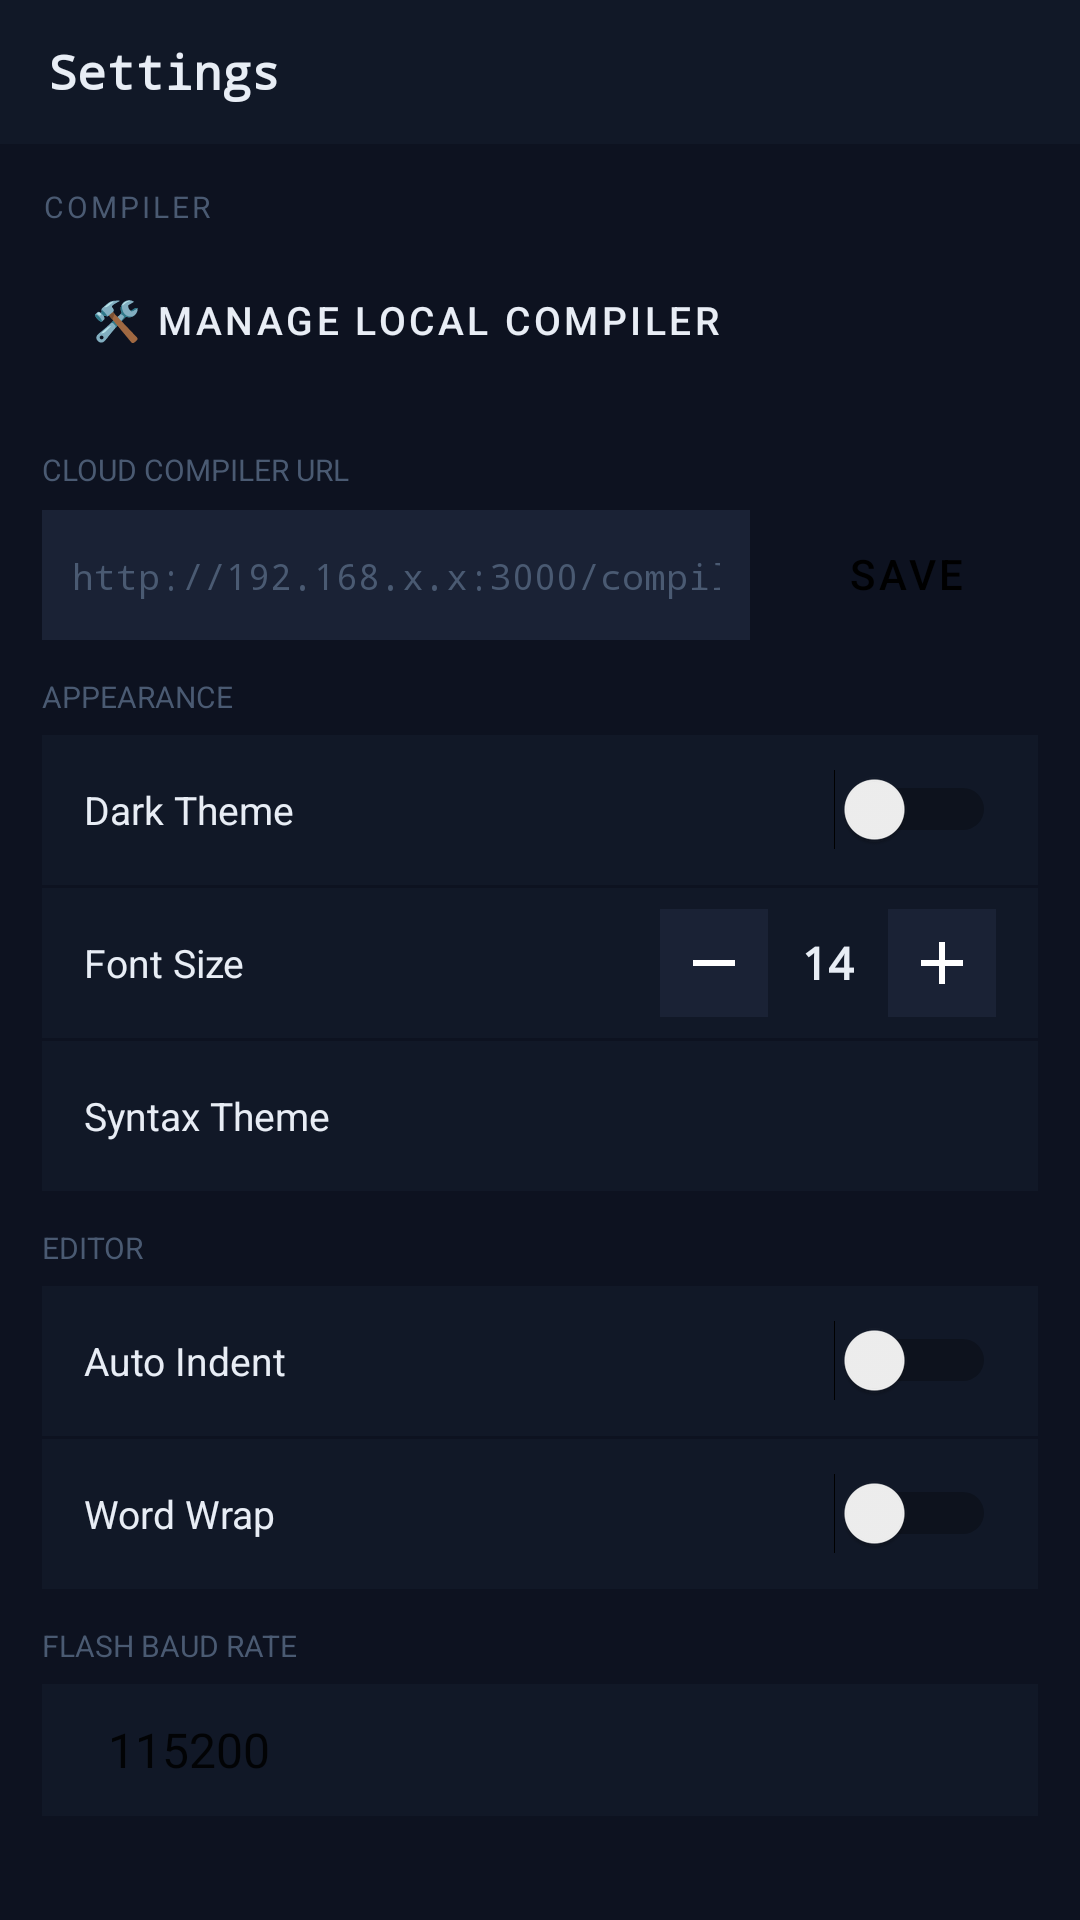

Where to tap for icons on this 1080 × 1920 app screen, as point (x, y):
Larger font: point (942, 963)
